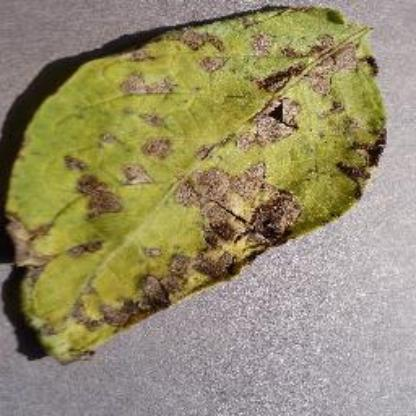Early-Blight: (5, 3, 387, 363)
